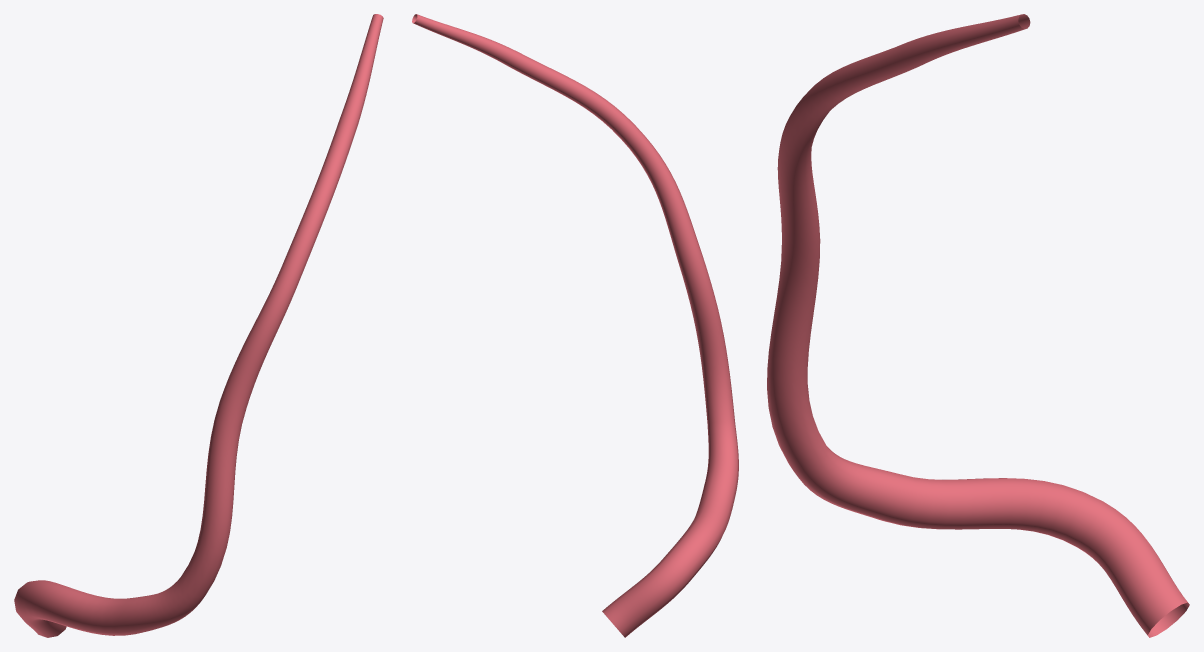
The picture shows the model from 3 angles, left to right: view 1: azimuth 30°, elevation 25°; view 2: azimuth 150°, elevation 25°; view 3: azimuth 270°, elevation 25°; orthographic projection. The views are drawn at different scales.
Visible parts, largest first — view 1: ZA_80eb874b5325aa7f; view 2: ZA_80eb874b5325aa7f; view 3: ZA_80eb874b5325aa7f.
Boxes of the visible parts, box(x1,y1,x2,y2) form: ZA_80eb874b5325aa7f: box(14, 14, 383, 637); ZA_80eb874b5325aa7f: box(412, 14, 738, 637); ZA_80eb874b5325aa7f: box(767, 14, 1189, 637).
Bounding box in the file's own units: 0.0139 × 0.0231 × 0.0109.
